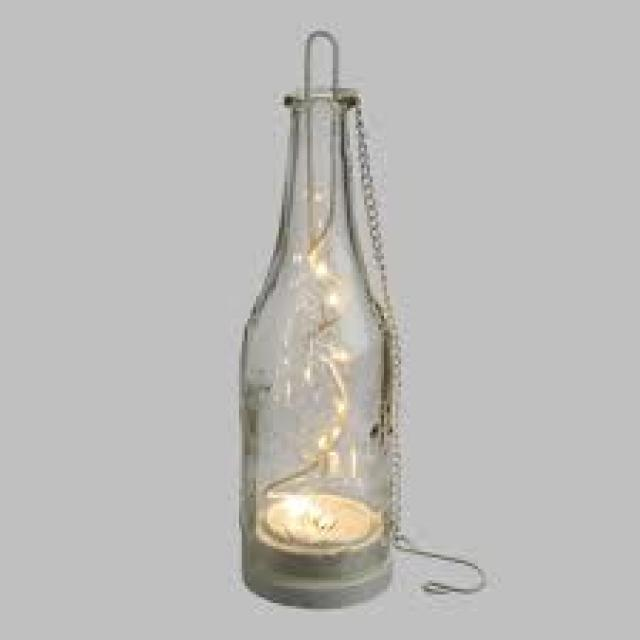Glass-Non-Biodegradable but Recyclable-: (235, 87, 394, 609)
